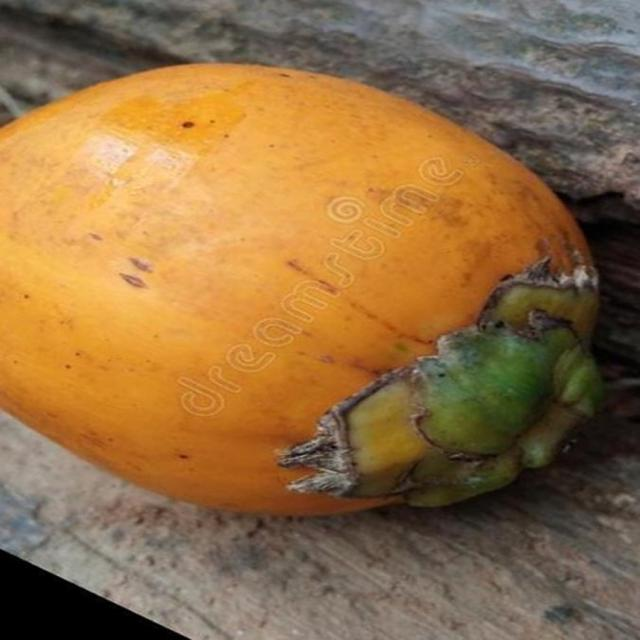good: (0, 63, 605, 520)
